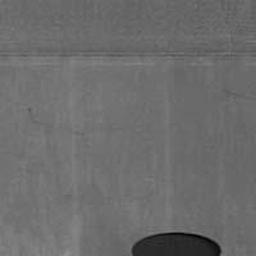Punching: (132, 230, 224, 256)
